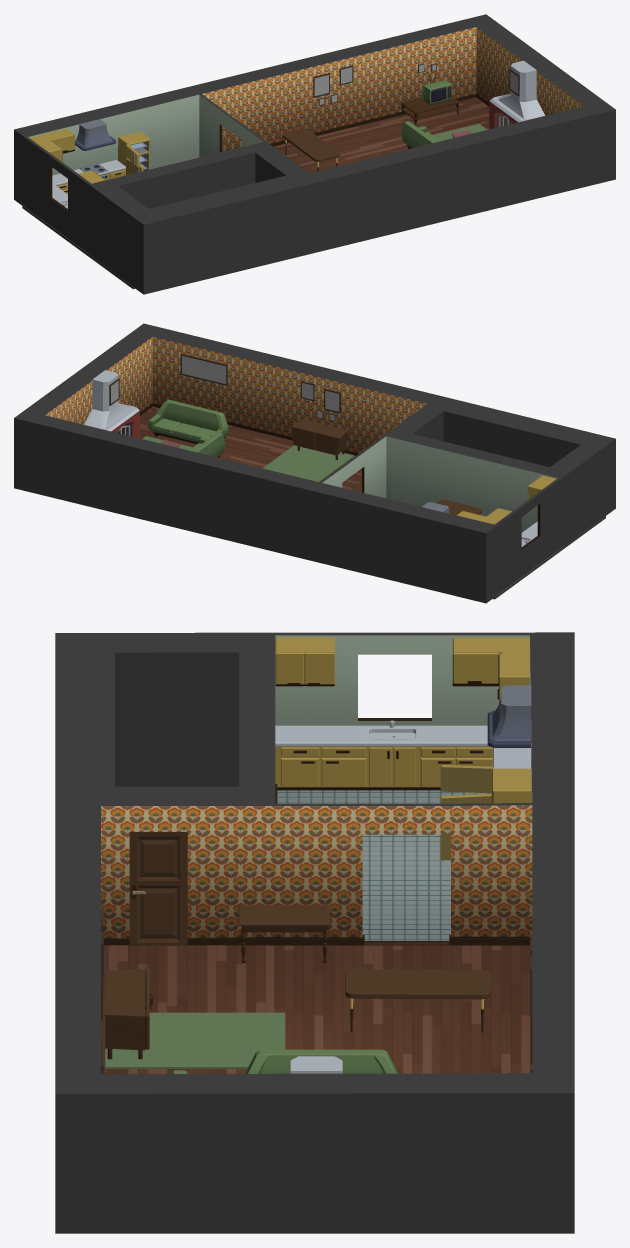
File: CompleteRoom_70s_v9.fbx
3 views of the same model, one above another, from view 1: azimuth 30°, elevation 25°; view 2: azimuth 150°, elevation 25°; view 3: azimuth 270°, elevation 25° (orthographic). The views are drawn at different scales.
Parts seen in each view (by area): view 1: U_Walls_70s, U_Floor_70s, U_Fireplace_70s_1, M_DinnerTable_70s, U_Cubboards_70s, U_ExhaustHood_70s, M_TvTable_70s, U_KitchenCounters_70s, U_FridgeBase_70s, M_Couch_70s_2, M_Tv_70s; view 2: U_Walls_70s, U_Floor_70s, M_Couch_70s_1, U_Fireplace_70s_1, U_Rug_70s_2, U_PhotoFrame_70s_9, U_Cubboards_70s, M_DresserWide_70s, M_Couch_70s_2, LeftDoor_Body_70s, RightDoor_Body_70s; view 3: U_Walls_70s, U_Floor_70s, U_KitchenCounters_70s, U_Rug_70s_2, U_Cubboards_70s, Door_70s, M_DinnerTable_70s, M_DresserWide_70s, U_SmallTable_70s, M_Couch_70s_2, U_ExhaustHood_70s, U_FridgeBase_70s (+2 smaller).
Boxes of the visible parts, x1=… form: U_Walls_70s: x1=14, y1=14, x2=615, y2=294; U_Floor_70s: x1=22, y1=97, x2=489, y2=289; U_Fireplace_70s_1: x1=489, y1=60, x2=544, y2=129; M_DinnerTable_70s: x1=282, y1=128, x2=340, y2=170; U_Cubboards_70s: x1=30, y1=129, x2=105, y2=183; U_ExhaustHood_70s: x1=75, y1=119, x2=116, y2=150; M_TvTable_70s: x1=401, y1=96, x2=459, y2=124; U_KitchenCounters_70s: x1=52, y1=160, x2=125, y2=208; U_FridgeBase_70s: x1=118, y1=131, x2=150, y2=170; M_Couch_70s_2: x1=401, y1=121, x2=440, y2=148; M_Tv_70s: x1=422, y1=71, x2=452, y2=104; U_Walls_70s: x1=14, y1=323, x2=615, y2=603; U_Floor_70s: x1=140, y1=406, x2=605, y2=599; M_Couch_70s_1: x1=148, y1=399, x2=228, y2=443; U_Fireplace_70s_1: x1=84, y1=370, x2=139, y2=438; U_Rug_70s_2: x1=262, y1=445, x2=354, y2=481; U_PhotoFrame_70s_9: x1=180, y1=353, x2=227, y2=385; U_Cubboards_70s: x1=457, y1=475, x2=556, y2=524; M_DresserWide_70s: x1=292, y1=419, x2=348, y2=459; M_Couch_70s_2: x1=189, y1=432, x2=225, y2=457; LeftDoor_Body_70s: x1=290, y1=426, x2=315, y2=450; RightDoor_Body_70s: x1=315, y1=431, x2=339, y2=455; U_Walls_70s: x1=55, y1=632, x2=574, y2=1233; U_Floor_70s: x1=102, y1=790, x2=530, y2=1073; U_KitchenCounters_70s: x1=275, y1=725, x2=530, y2=790; U_Rug_70s_2: x1=105, y1=1012, x2=285, y2=1068; U_Cubboards_70s: x1=275, y1=637, x2=529, y2=703; Door_70s: x1=129, y1=832, x2=187, y2=945; M_DinnerTable_70s: x1=345, y1=969, x2=491, y2=1032; M_DresserWide_70s: x1=105, y1=968, x2=145, y2=1059; U_SmallTable_70s: x1=238, y1=905, x2=329, y2=962; M_Couch_70s_2: x1=245, y1=1049, x2=398, y2=1073; U_ExhaustHood_70s: x1=487, y1=685, x2=531, y2=747; U_FridgeBase_70s: x1=491, y1=768, x2=531, y2=803.
Size of the model in its own units: 187 by 27.79 by 89.
